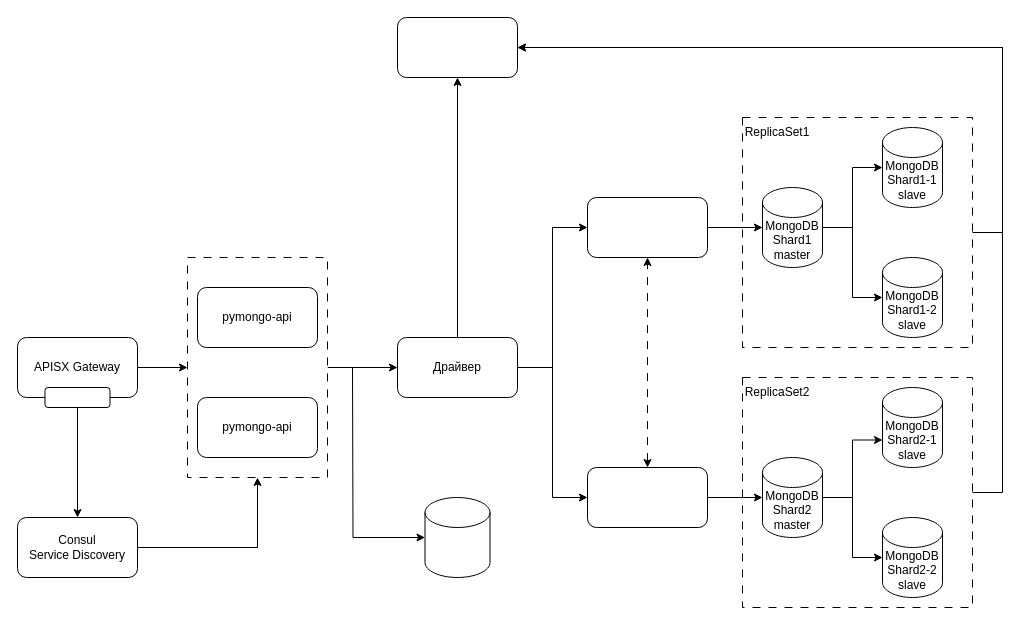
The diagram is 1028 pixels wide and 625 high, and some of its shapes have lost their labels. Here are the shapes that lost their labels. From the top down, the centre of each, then its label:
pixel 457 47: Конфигурационный сервер
pixel 647 227: MongoDB Router1
pixel 77 397: consul_kv
pixel 647 497: MongoDB Router2
pixel 457 537: Redis Cache
